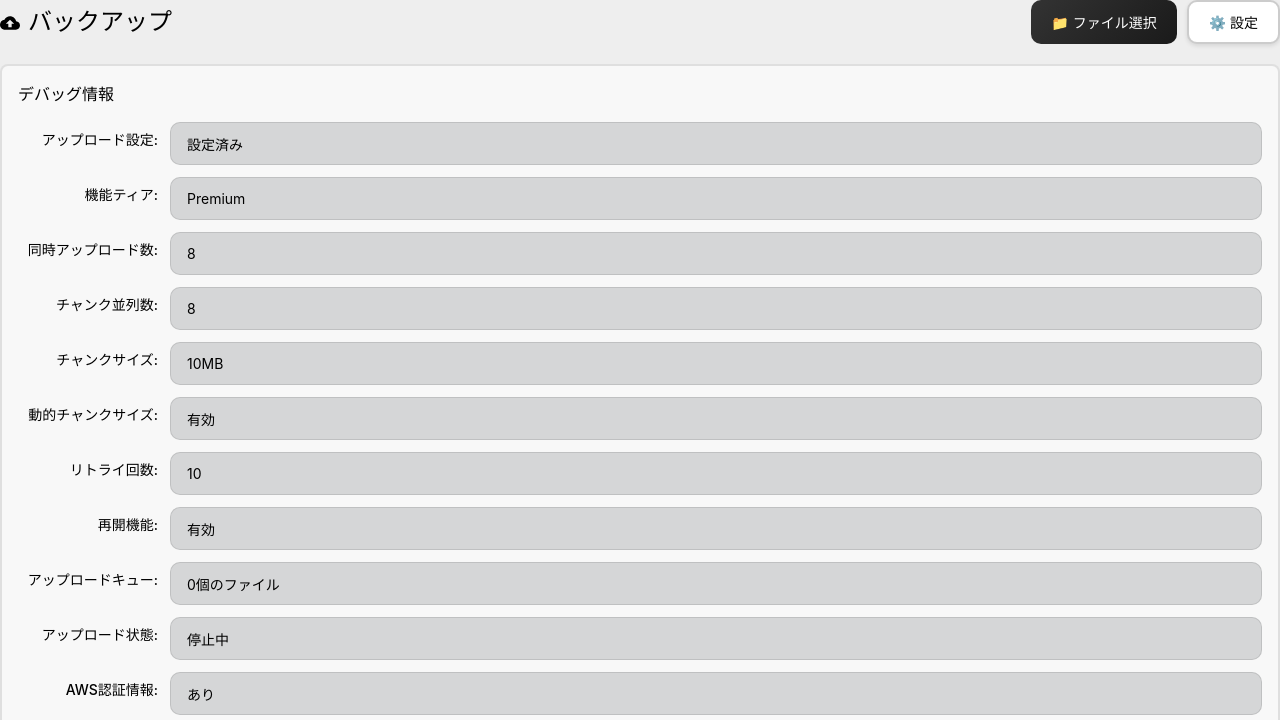
Test: UploadManager › should display upload statistics correctly
The width and height of the screenshot is (1280, 720).
Step 1. Click the button "📁 ファイル選択" → (1104, 22), box [1031,0,1177,44]
(page scrolled)
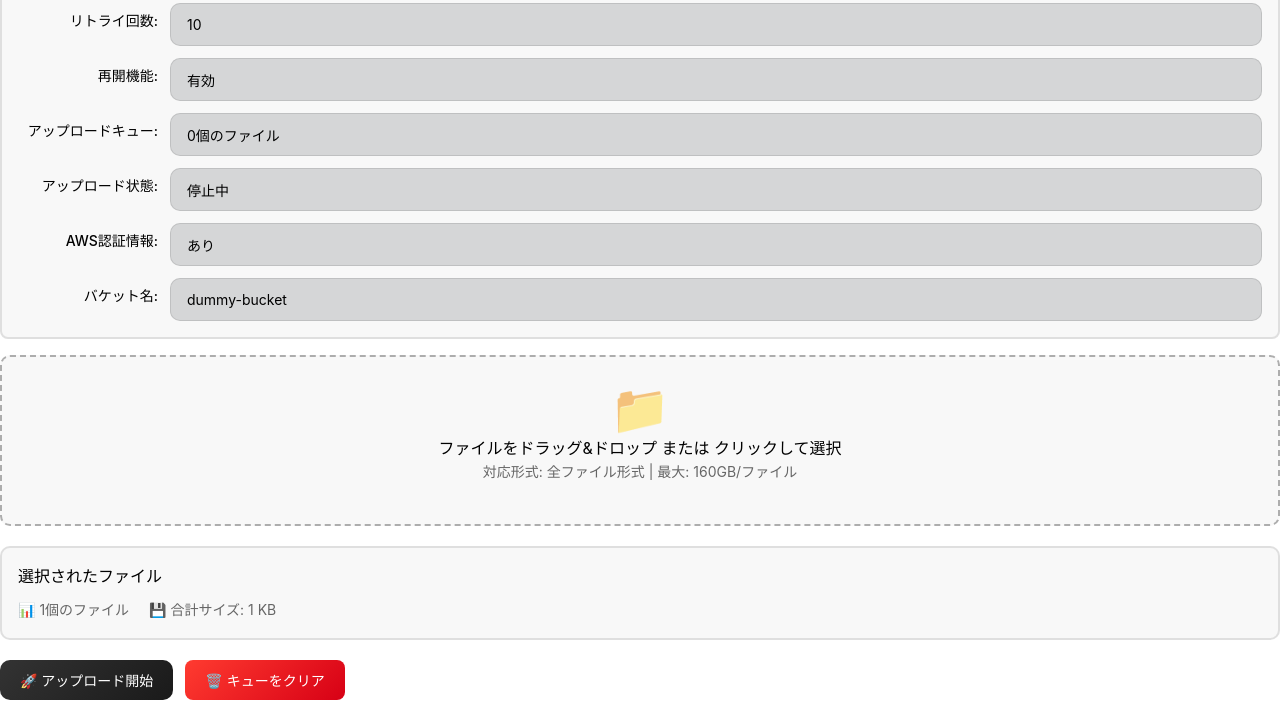
Now the text "📊 1個のファイル" is shown, box [18,598,129,622]
Now the text "💾 合計サイズ: 1 KB" is shown, box [149,598,276,622]
